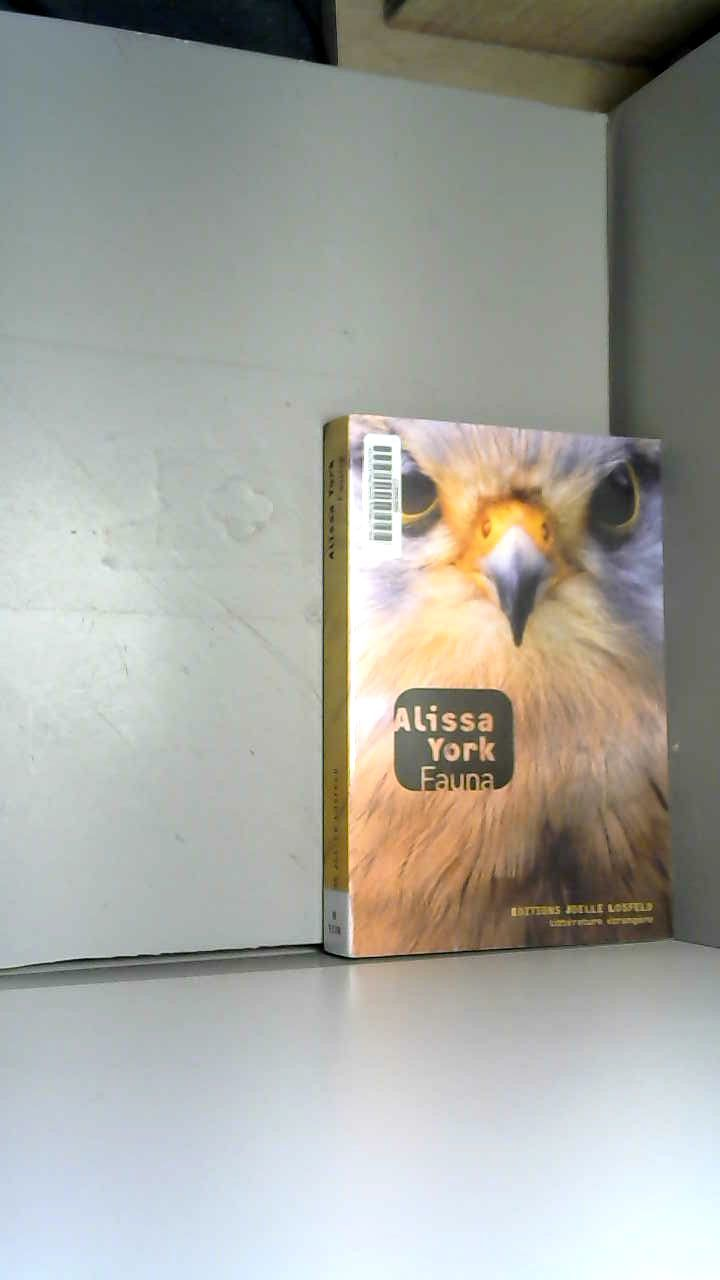book: (281, 364, 720, 1003)
